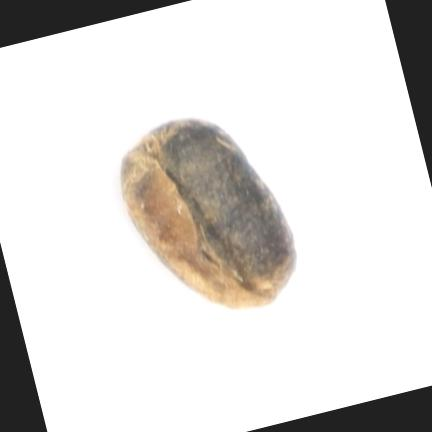partial-black: (121, 118, 296, 307)
